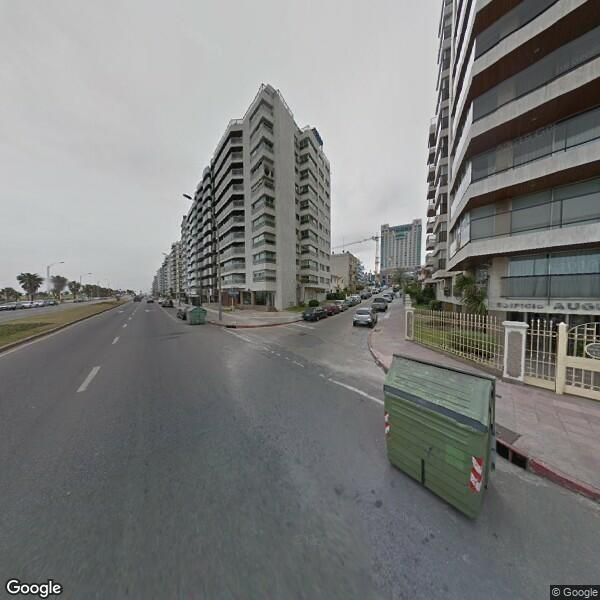Trash: (383, 352, 499, 524)
